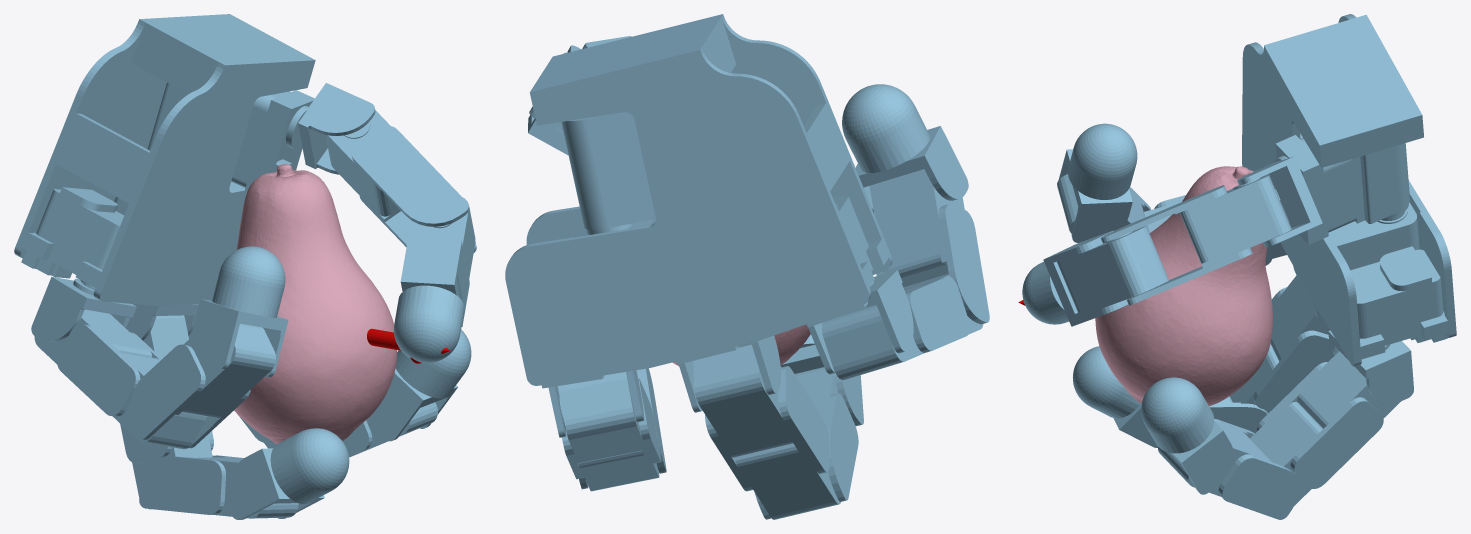
3 views of the same model, side by side, from view 1: azimuth 30°, elevation 25°; view 2: azimuth 150°, elevation 25°; view 3: azimuth 270°, elevation 25° (orthographic). The views are drawn at different scales.
Parts seen in each view (by area): view 1: world, pear.stl; view 2: world, pear.stl; view 3: world, pear.stl.
Boxes of the visible parts, x1=… form: world: x1=14, y1=14, x2=476, y2=519; pear.stl: x1=234, y1=164, x2=397, y2=444; world: x1=505, y1=14, x2=989, y2=519; pear.stl: x1=672, y1=324, x2=810, y2=366; world: x1=1018, y1=14, x2=1456, y2=519; pear.stl: x1=1095, y1=166, x2=1272, y2=406.
Size of the model in its own units: 0.1536 by 0.1779 by 0.1622.
